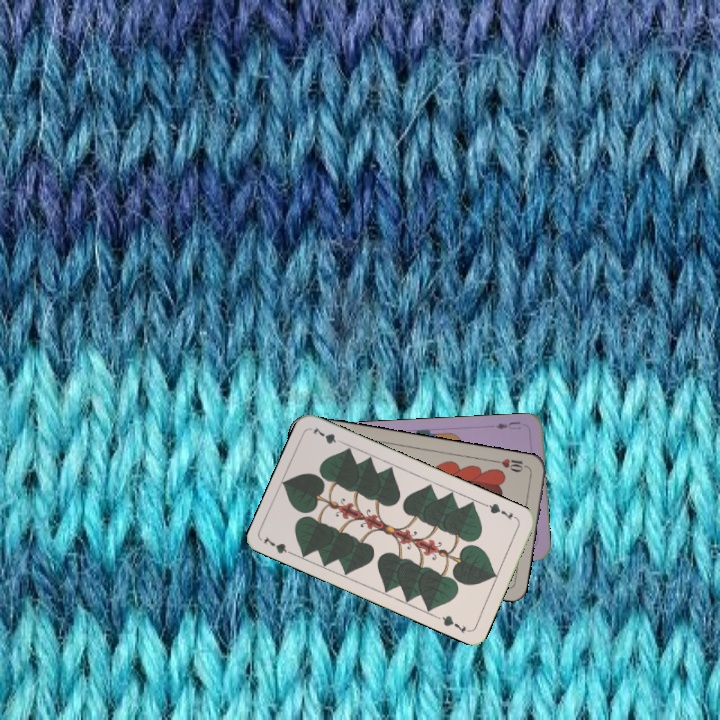EU: (492, 418, 523, 432)
G7: (260, 532, 298, 559), (482, 499, 520, 523)
H10: (491, 454, 531, 475)
